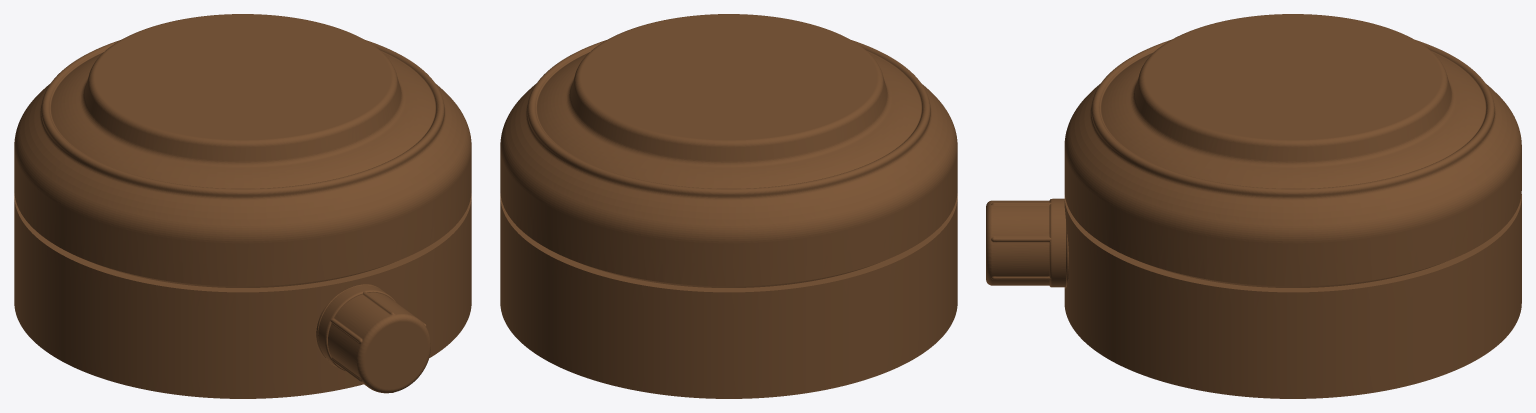
The model's file is pmk-40.glb.
3 views of the same model, side by side, from view 1: azimuth 30°, elevation 25°; view 2: azimuth 150°, elevation 25°; view 3: azimuth 270°, elevation 25° (orthographic).
Size of the model in its own units: 0.07 by 0.038 by 0.082.
